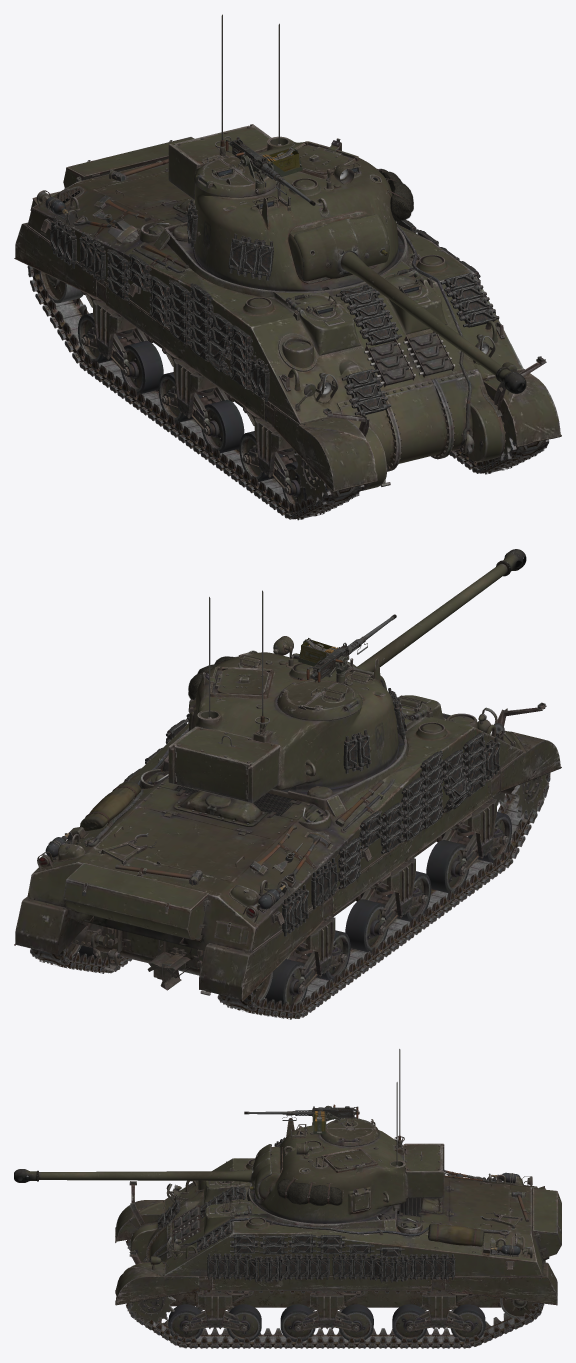
The model's file is sherman_firefly.glb.
3 renders of one model, top to bottom at view 1: azimuth 30°, elevation 25°; view 2: azimuth 150°, elevation 25°; view 3: azimuth 270°, elevation 25°, orthographic. The views are drawn at different scales.
Parts seen in each view (by area): view 1: Object_30, Object_10, Object_26, Object_2, Object_8, Object_14, Object_28, Object_15, Object_16, Object_24, Object_29, Object_11 (+16 smaller); view 2: Object_30, Object_10, Object_26, Object_28, Object_2, Object_14, Object_15, Object_31, Object_29, Object_11, Object_24, Object_8 (+10 smaller); view 3: Object_30, Object_26, Object_10, Object_6, Object_28, Object_18, Object_16, Object_8, Object_17, Object_11, Object_24, Object_29 (+15 smaller).
Boxes of the visible parts, x1,y1,x2,y2 form: Object_30: (27,160,523,490); Object_10: (168,124,408,291); Object_26: (14,137,561,492); Object_2: (27,265,361,520); Object_8: (293,214,526,393); Object_14: (50,199,273,401); Object_28: (27,186,524,491); Object_15: (149,275,232,375); Object_16: (230,219,480,390); Object_24: (81,328,296,495); Object_29: (23,190,495,401); Object_11: (199,145,354,188); Object_30: (27,695,524,980); Object_10: (168,652,398,803); Object_26: (14,702,561,1001); Object_28: (26,722,523,977); Object_2: (217,772,550,1019); Object_14: (282,688,500,936); Object_15: (380,749,471,853); Object_31: (15,723,514,955); Object_29: (37,695,497,999); Object_11: (215,636,357,709); Object_24: (286,827,508,994); Object_8: (292,549,526,689); Object_30: (130,1158,549,1329); Object_26: (115,1181,561,1305); Object_10: (254,1118,444,1223); Object_6: (126,1277,544,1348); Object_28: (136,1159,541,1329); Object_18: (157,1199,455,1282); Object_16: (200,1161,404,1256); Object_8: (14,1144,271,1199); Object_17: (207,1253,329,1282); Object_11: (296,1117,373,1169); Object_24: (191,1305,472,1331); Object_29: (166,1169,545,1259).
Size of the model in its own units: 2.92 by 4.08 by 7.89.
Materials: 14 (14 with a texture image).
